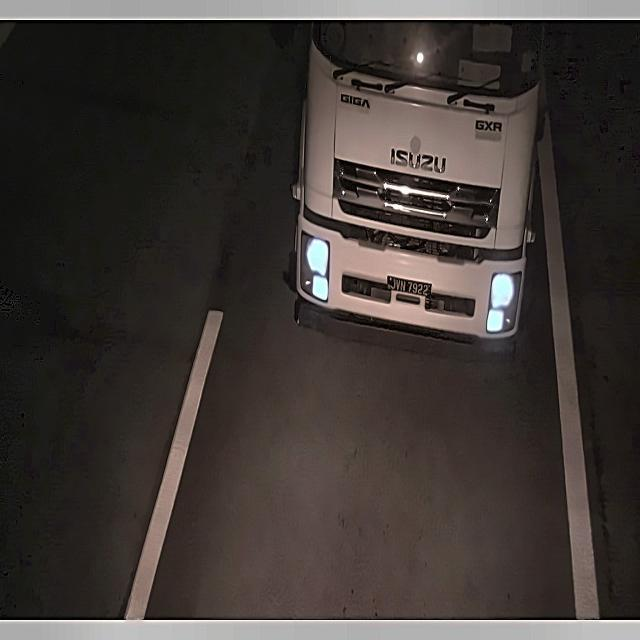car: (382, 273, 437, 302)
